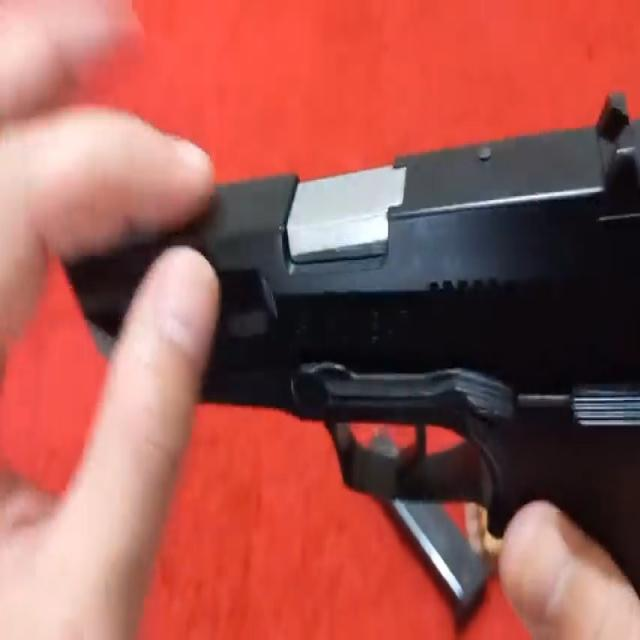handgun: (111, 88, 640, 474)
